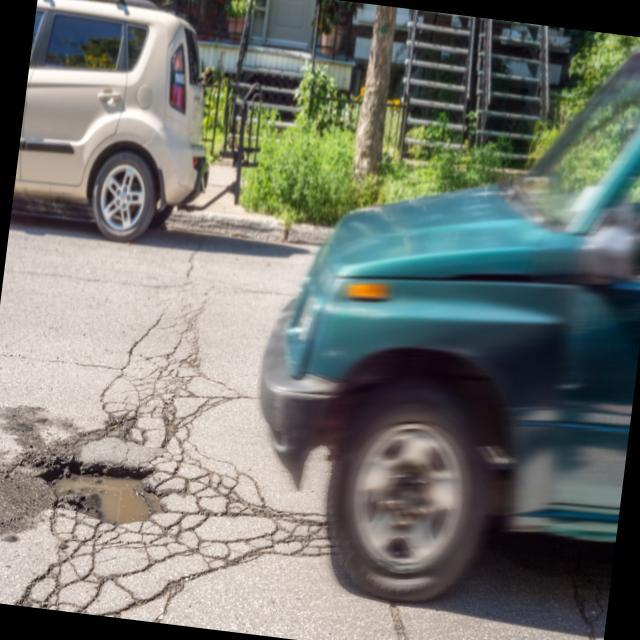Pothole: (25, 447, 172, 533)
